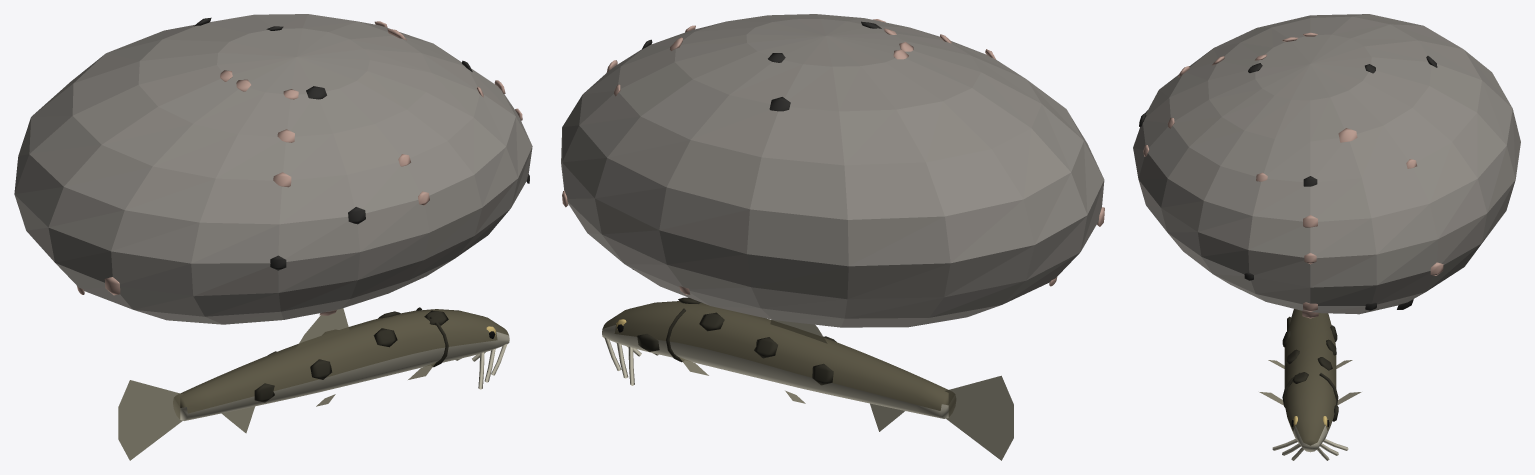
Rendered from lake-loach-tibet-shallows-0.glb.
The picture shows the model from 3 angles, left to right: view 1: azimuth 30°, elevation 25°; view 2: azimuth 150°, elevation 25°; view 3: azimuth 270°, elevation 25°; orthographic projection. The views are drawn at different scales.
Visible parts, largest first — view 1: lake-loach-tibet-shallows-0; view 2: lake-loach-tibet-shallows-0; view 3: lake-loach-tibet-shallows-0.
Boxes of the visible parts, x1,y1,x2,y2 form: lake-loach-tibet-shallows-0: [14, 14, 532, 460]; lake-loach-tibet-shallows-0: [561, 14, 1104, 460]; lake-loach-tibet-shallows-0: [1133, 14, 1520, 460].
Bounding box in the file's own units: 0.134 × 0.0999 × 0.1078.
